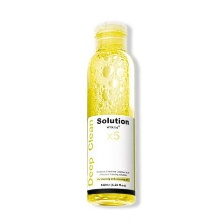cleaning_solution: (82, 19, 139, 209)
